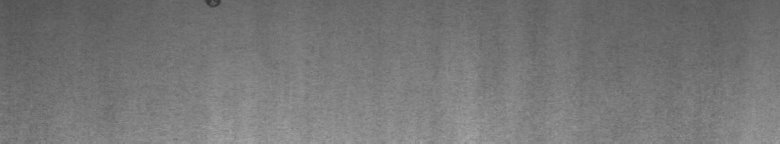fi: (207, 4, 221, 12)
